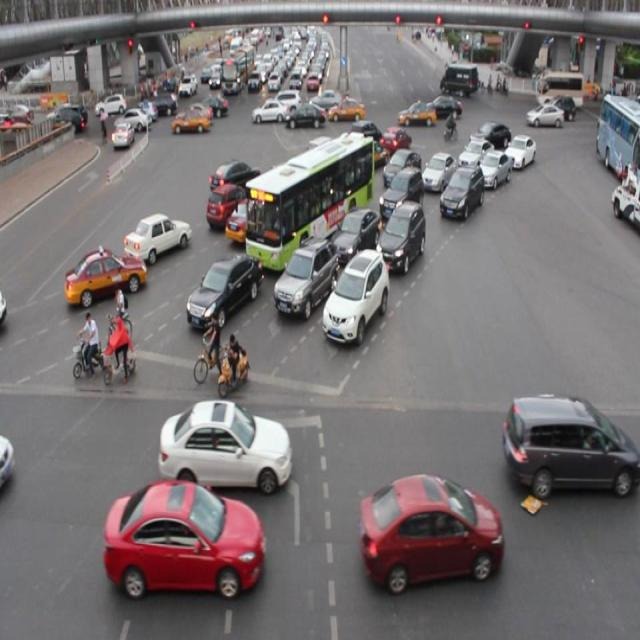car: (108, 479, 262, 598), (360, 472, 500, 586), (160, 396, 291, 489), (322, 247, 387, 343), (189, 253, 260, 324), (275, 237, 336, 313), (65, 248, 146, 302), (377, 200, 424, 271), (125, 214, 189, 265), (329, 206, 380, 261), (439, 164, 483, 221), (226, 195, 274, 242), (379, 165, 421, 218), (210, 159, 261, 201), (323, 155, 368, 199), (206, 184, 251, 228), (266, 160, 308, 201), (382, 148, 420, 189), (421, 152, 457, 193), (468, 121, 510, 152), (344, 120, 381, 154), (476, 150, 509, 188), (352, 135, 387, 168), (457, 140, 492, 172), (504, 135, 534, 171), (379, 127, 410, 157)
truck: (502, 389, 640, 498), (302, 137, 346, 179)
van: (246, 138, 372, 269)
